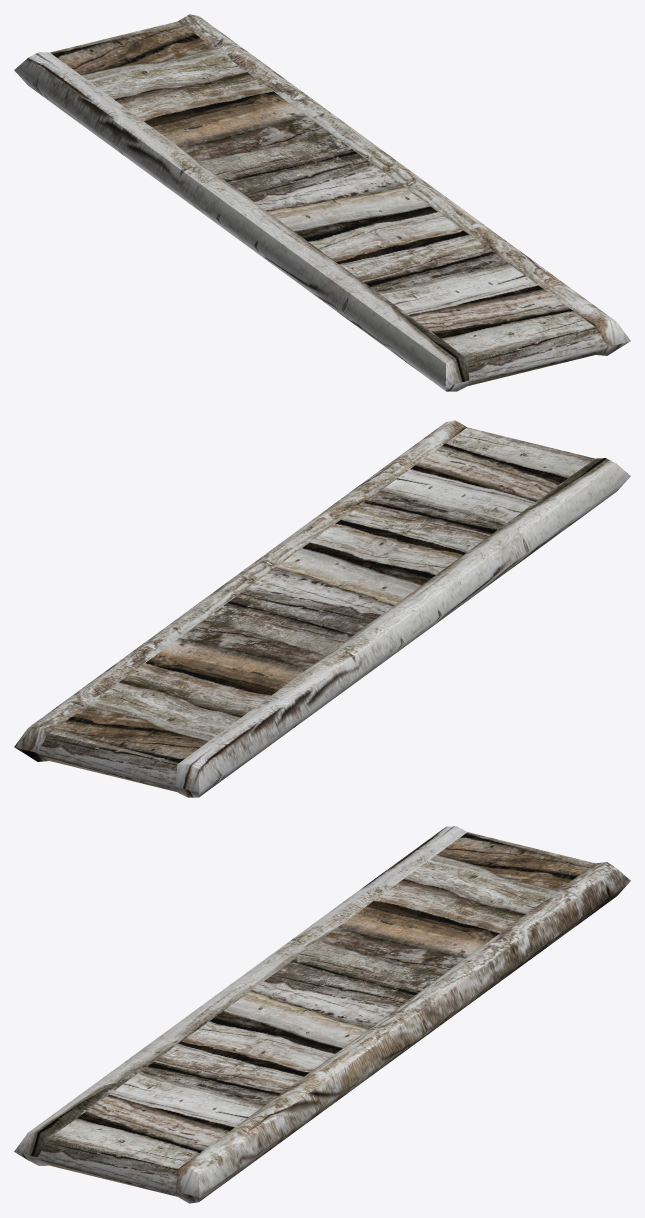
Rendered from LogBridge.fbx.
3 renders of one model, top to bottom at view 1: azimuth 30°, elevation 25°; view 2: azimuth 150°, elevation 25°; view 3: azimuth 330°, elevation 25°, orthographic.
Parts seen in each view (by area): view 1: Box001; view 2: Box001; view 3: Box001.
Part boxes in pixels (<box>): Box001: <box>14,14,630,391</box>; Box001: <box>14,420,630,797</box>; Box001: <box>14,826,630,1203</box>.
Size of the model in its own units: 35.83 by 6.62 by 145.
Materials: 1 (1 with a texture image).
